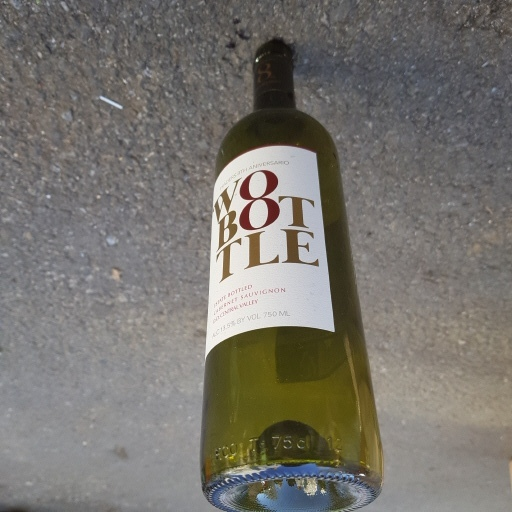Glass_2: (199, 38, 384, 512)
